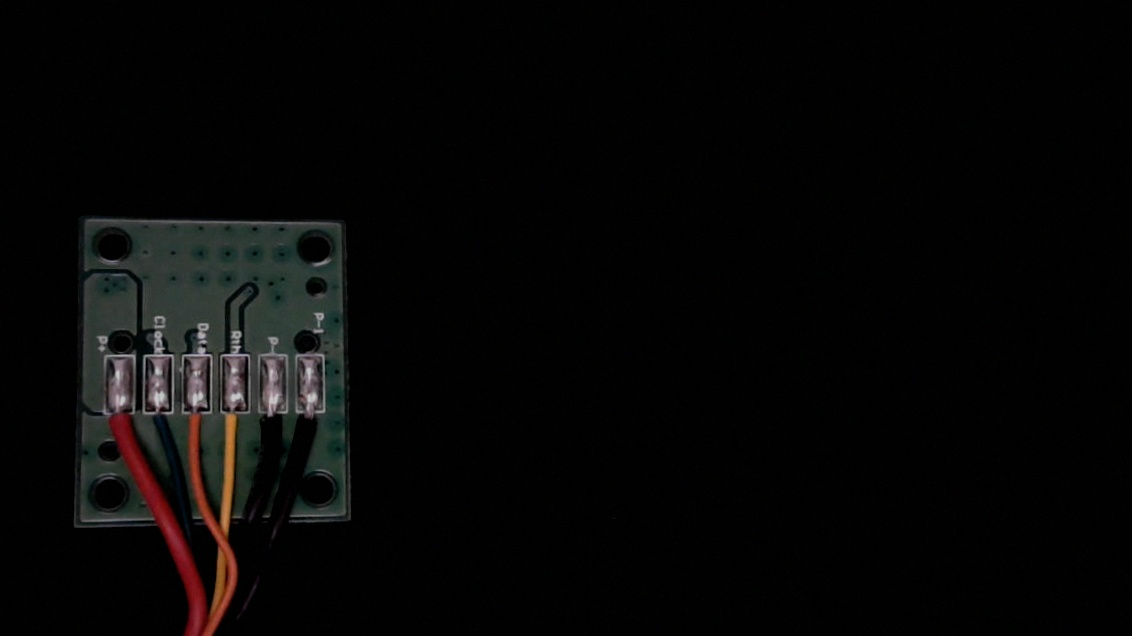Black: (257, 398, 288, 455)
Black1: (296, 395, 328, 457)
Green: (143, 396, 177, 460)
Orange: (181, 396, 213, 462)
Red: (103, 397, 136, 462)
Yellow: (218, 398, 251, 467)
